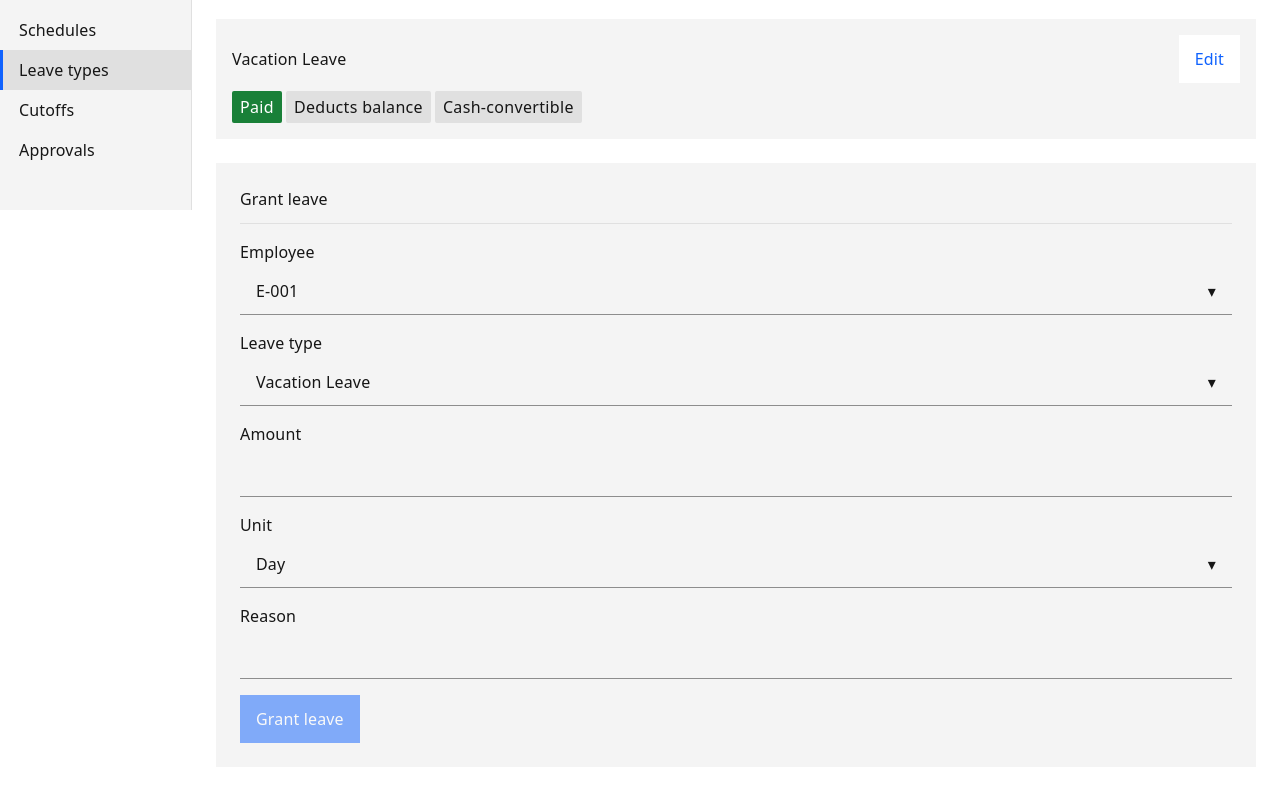
/office/leave-types — grant form › submit is disabled until employee, leave type, amount, unit, and reason are all set
This screenshot has width=1280, height=791.
(page scrolled)
Expected: the button "Grant leave" is disabled, [240, 695, 360, 743]
In the field labelled "Amount": (736, 474) [240, 450, 1232, 497], type "2"
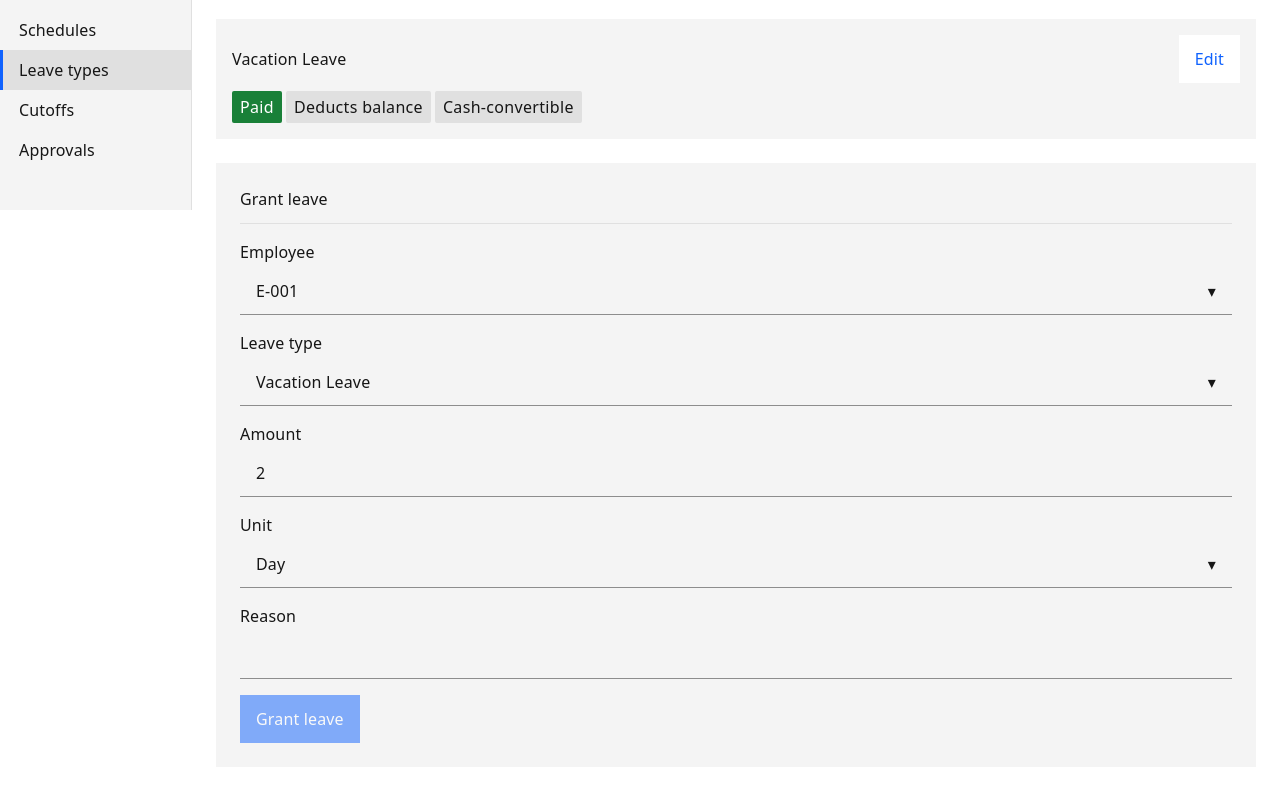
Expected: the button "Grant leave" is disabled, [240, 695, 360, 743]
In the field labelled "Reason": (736, 656) [240, 632, 1232, 679], type "Approved by manager"
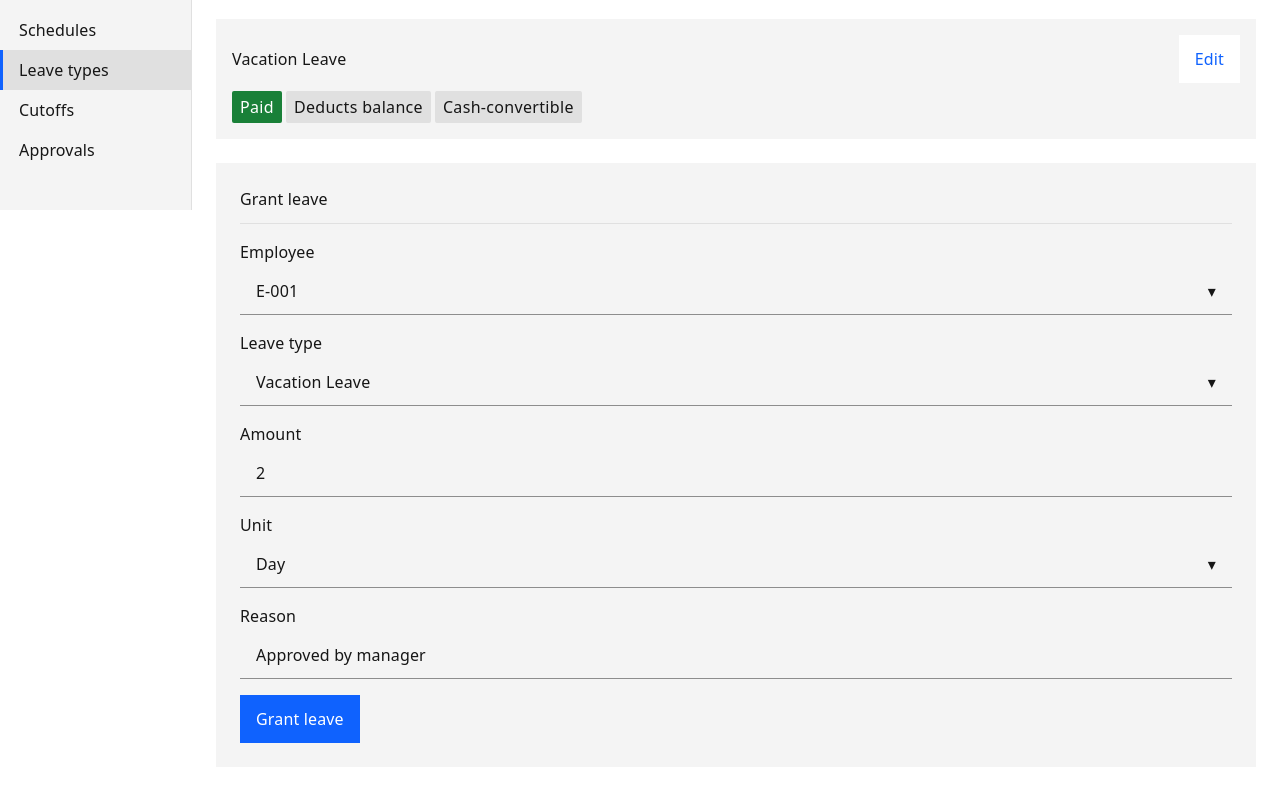
Expected: the button "Grant leave" is enabled, [240, 695, 360, 743]
